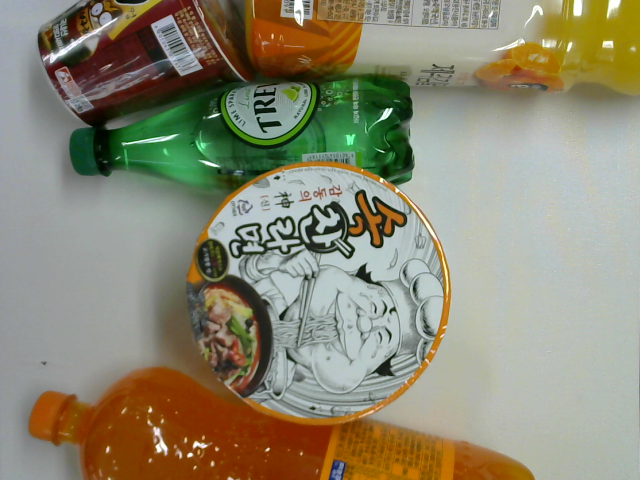Hejangchan: (174, 157, 457, 431)
Hwanta_Orange_1.5L: (26, 362, 533, 480)
Jeju_Tangerine_1.5L: (241, 1, 639, 102)
Raccoon: (34, 1, 251, 134)
Treviraim_500ml: (68, 73, 415, 200)
